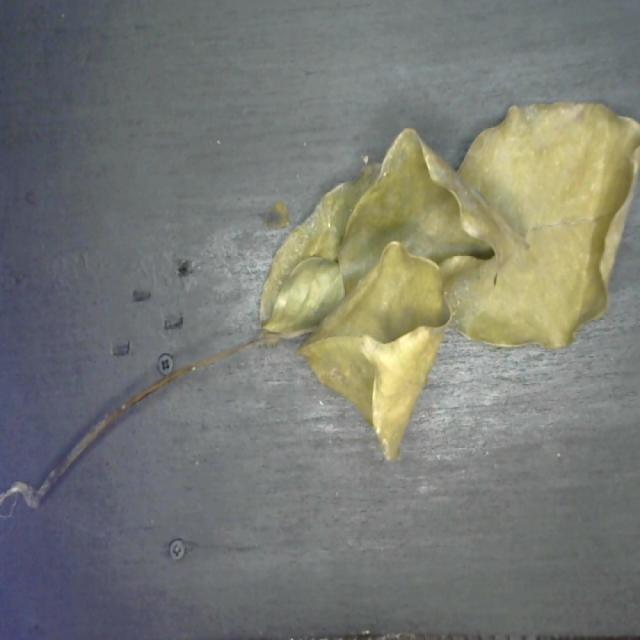biodegradable: (256, 92, 640, 466)
